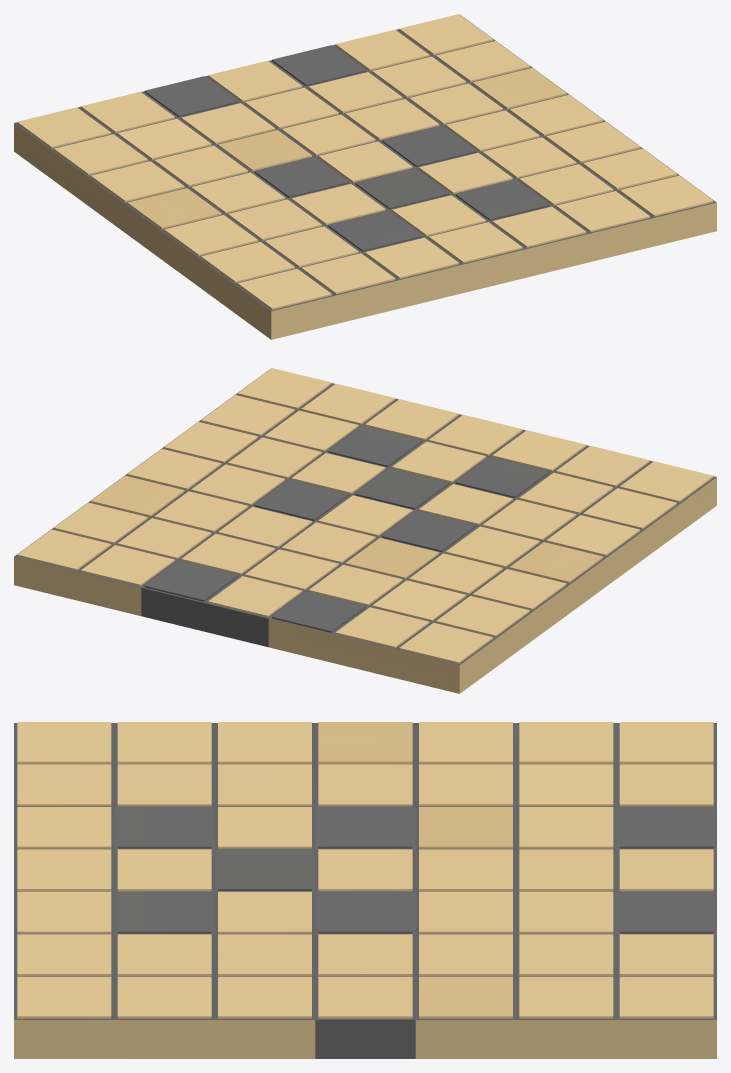
The model's file is floor_tile_1.obj.
The picture shows the model from 3 angles, top to bottom: view 1: azimuth 30°, elevation 25°; view 2: azimuth 150°, elevation 25°; view 3: azimuth 270°, elevation 25°; orthographic projection. The views are drawn at different scales.
Visible parts, largest first — view 1: floor_tile_1_Mesh; view 2: floor_tile_1_Mesh; view 3: floor_tile_1_Mesh.
Part boxes in pixels (x1,y1,x2,y2): floor_tile_1_Mesh: (14,14,716,339); floor_tile_1_Mesh: (14,368,716,693); floor_tile_1_Mesh: (14,722,716,1058).
Size of the model in its own units: 1.82 by 0.1179 by 1.82.
